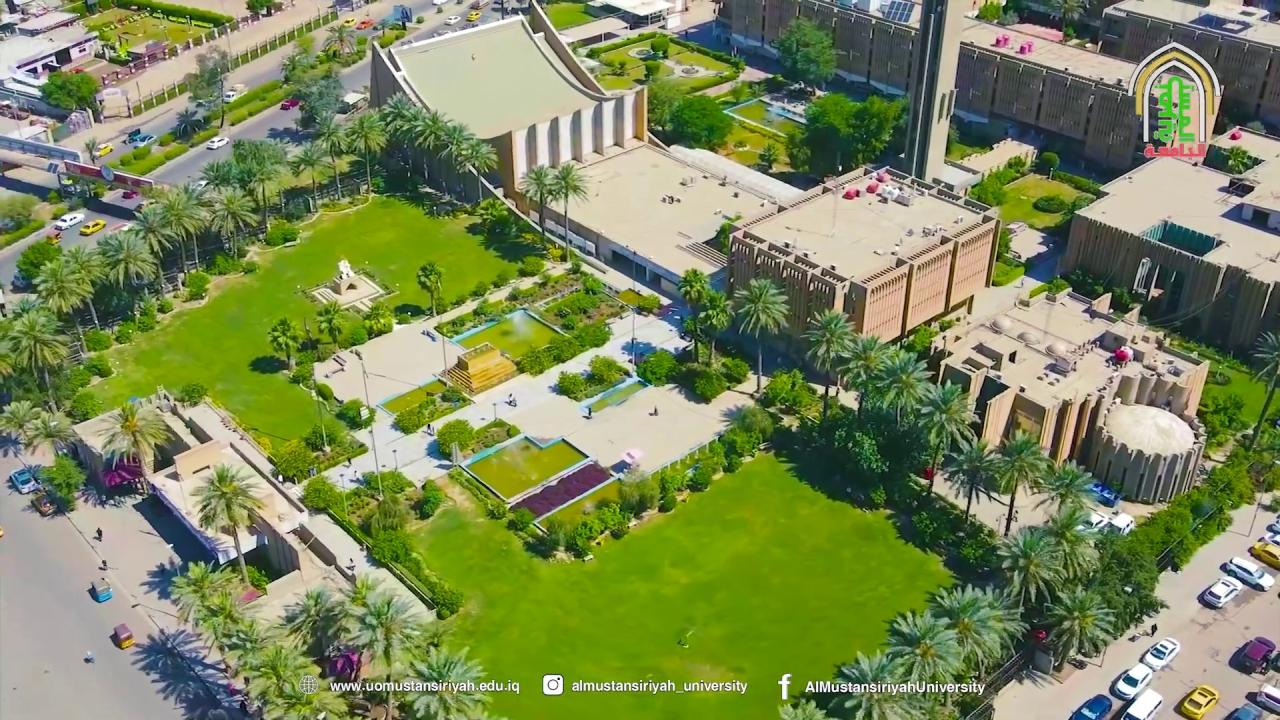car: (1219, 556, 1274, 592), (1234, 636, 1278, 675), (1110, 662, 1152, 700), (1139, 638, 1180, 672), (1119, 688, 1163, 719), (1180, 686, 1219, 720), (1203, 576, 1242, 609), (1067, 694, 1113, 719), (1082, 480, 1122, 508), (1249, 533, 1279, 570), (9, 467, 42, 495), (1224, 702, 1263, 719), (1256, 684, 1279, 712), (54, 211, 85, 230), (123, 132, 157, 148), (222, 83, 247, 103), (79, 219, 105, 236), (92, 142, 114, 159), (206, 135, 230, 150), (279, 96, 299, 110), (356, 19, 374, 29), (444, 14, 460, 25), (465, 10, 481, 21), (223, 91, 236, 103), (121, 190, 138, 199), (341, 17, 356, 27)
fountain: (462, 436, 588, 498), (442, 306, 571, 365), (546, 485, 636, 550), (582, 377, 656, 421), (380, 382, 460, 405), (111, 622, 135, 649), (89, 579, 112, 602)
person: (506, 393, 516, 406), (94, 526, 103, 540)
tree: (129, 558, 503, 719), (924, 584, 1026, 686), (167, 559, 254, 678), (131, 624, 239, 719), (188, 461, 266, 587), (879, 608, 965, 717), (348, 594, 420, 718), (241, 641, 349, 719), (95, 398, 173, 492), (400, 643, 495, 719), (914, 378, 975, 494), (732, 276, 790, 393), (798, 306, 855, 420), (1041, 584, 1116, 670), (989, 428, 1048, 536), (994, 526, 1064, 612), (831, 648, 912, 718), (941, 432, 1001, 522), (230, 138, 286, 234), (770, 12, 837, 90), (840, 93, 906, 170), (127, 201, 179, 298), (276, 586, 347, 657), (2, 309, 69, 384), (834, 332, 892, 418), (869, 348, 931, 427), (1029, 456, 1095, 526), (804, 91, 860, 173), (167, 558, 234, 626), (288, 361, 337, 448), (377, 90, 423, 182), (548, 160, 589, 262), (160, 188, 206, 277), (343, 110, 388, 199), (752, 364, 826, 418), (1246, 328, 1279, 449), (31, 256, 94, 317), (95, 228, 159, 288), (514, 162, 558, 248), (669, 93, 733, 151), (63, 243, 106, 329), (207, 189, 259, 260), (40, 69, 102, 128), (409, 108, 452, 188), (715, 411, 773, 469), (175, 180, 212, 270), (288, 140, 333, 212), (436, 121, 477, 199), (676, 266, 709, 362), (312, 112, 348, 199), (454, 136, 498, 202), (39, 453, 86, 512), (701, 288, 734, 364), (20, 411, 74, 456), (540, 522, 604, 558), (266, 439, 315, 485), (266, 315, 303, 371), (15, 240, 62, 284), (1044, 0, 1090, 43), (435, 417, 476, 465), (1249, 328, 1279, 392), (0, 398, 42, 442), (589, 498, 637, 536), (313, 298, 346, 353), (635, 348, 678, 387), (416, 261, 444, 316), (776, 696, 841, 719), (616, 479, 656, 515), (321, 20, 357, 58), (782, 125, 811, 172), (681, 314, 708, 364), (515, 343, 554, 377), (587, 354, 627, 385), (360, 301, 394, 337), (1221, 144, 1253, 175), (175, 380, 209, 409), (687, 463, 715, 496), (656, 468, 676, 513), (1043, 274, 1070, 303), (756, 138, 779, 172), (976, 0, 1004, 23), (1037, 151, 1059, 180), (636, 291, 661, 316), (243, 0, 271, 19), (83, 135, 99, 165)
